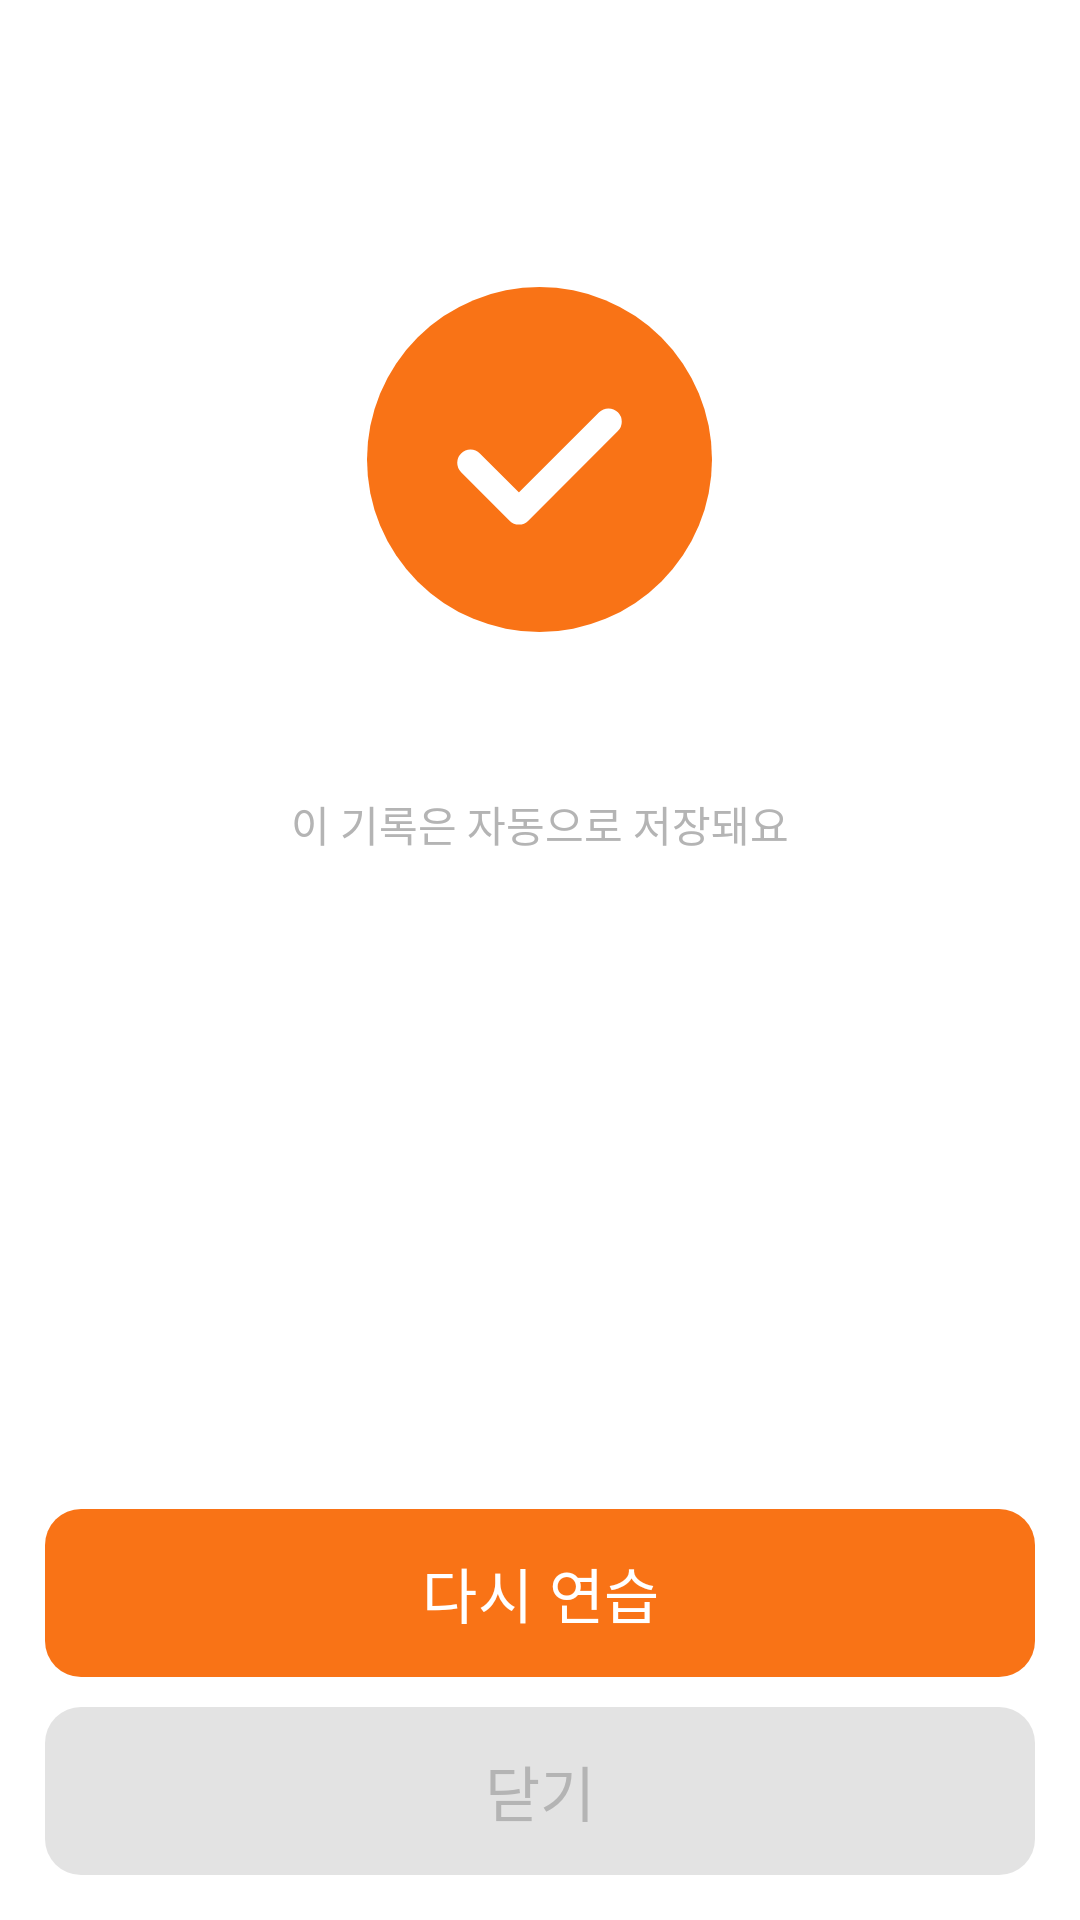

Point at icon controls on the screen. Image size 1080×1920, points as [x,y].
success badge: [539,459]
